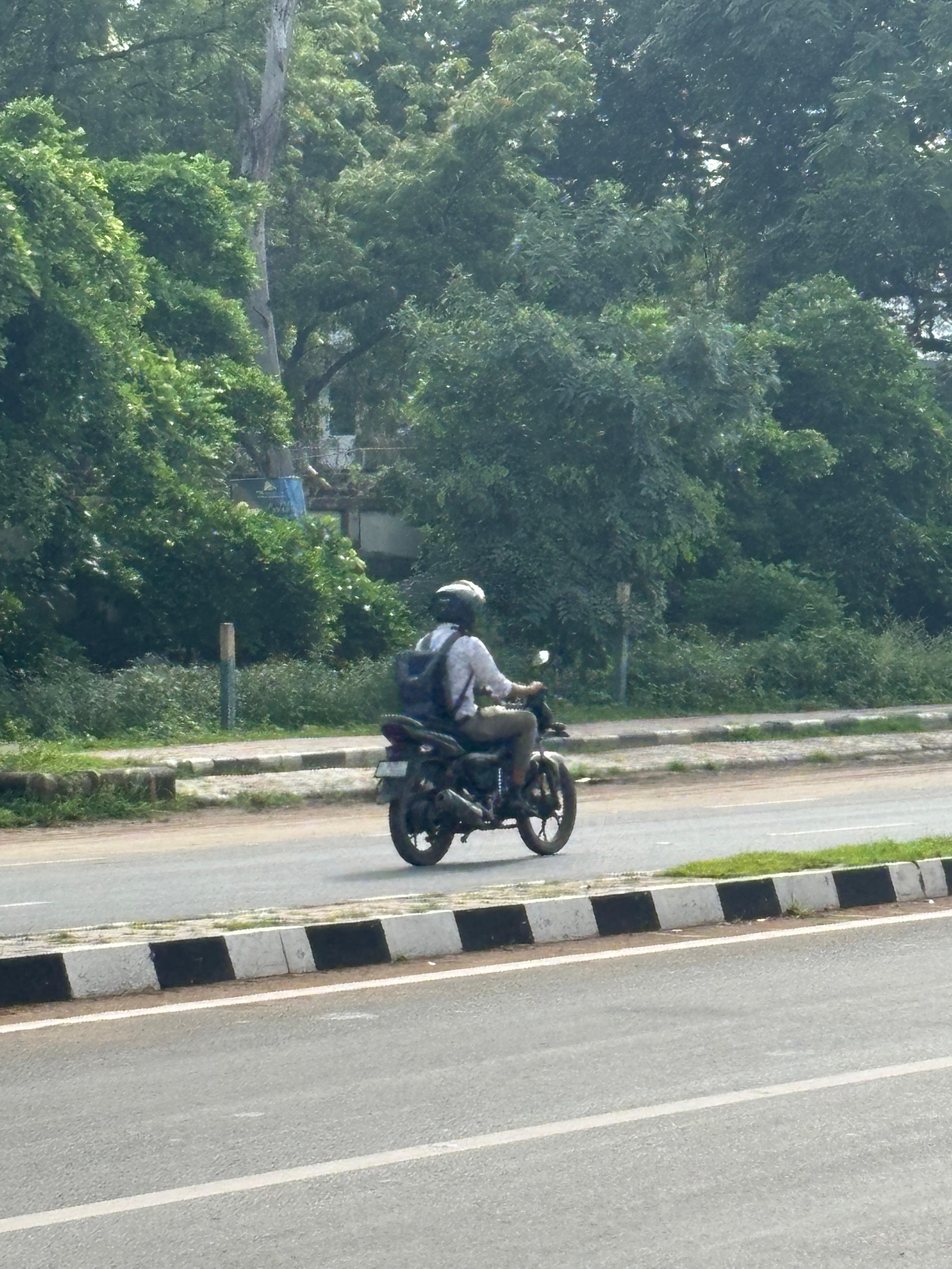BikeWithRider: (363, 573, 589, 875)
Helmet: (426, 574, 490, 636)
